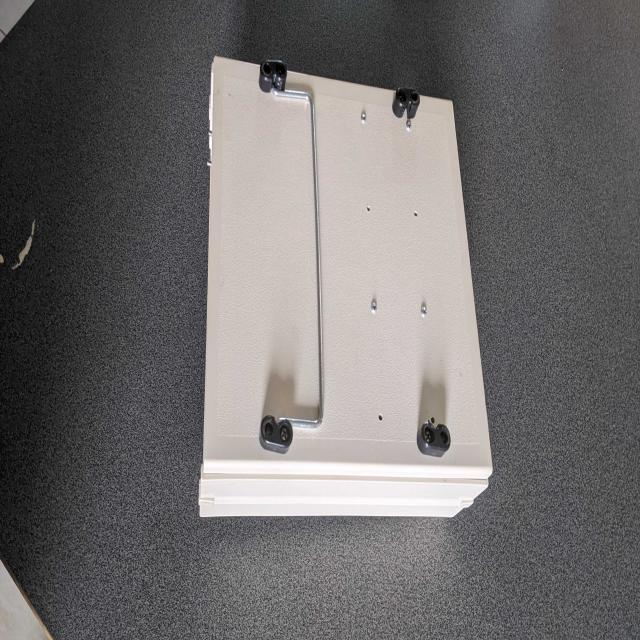Freefall Digital Timer: (185, 26, 503, 536)
